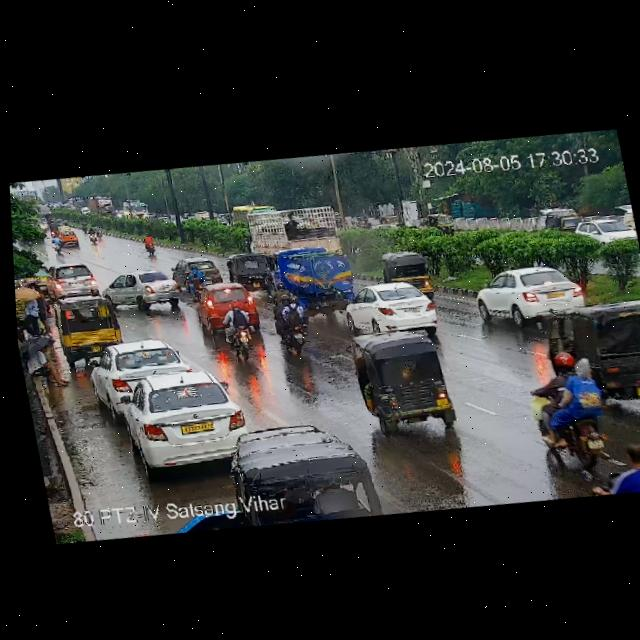car: (237, 416, 389, 533), (116, 362, 250, 475), (351, 321, 470, 442), (537, 288, 640, 414), (472, 257, 591, 331), (88, 332, 194, 406), (344, 276, 451, 344), (52, 289, 126, 355), (191, 276, 261, 336), (103, 265, 186, 315), (385, 249, 438, 297), (45, 260, 103, 302), (572, 213, 637, 248), (227, 248, 276, 290), (172, 255, 222, 287), (429, 213, 452, 234), (58, 228, 81, 247)
motorcycle: (523, 341, 614, 476), (269, 290, 316, 362), (599, 433, 640, 496), (220, 302, 260, 346), (183, 264, 211, 296), (138, 233, 161, 256), (86, 224, 107, 244), (51, 235, 68, 255)
person: (19, 333, 68, 390), (15, 281, 53, 337)
truck: (232, 192, 362, 286), (274, 243, 356, 306)
